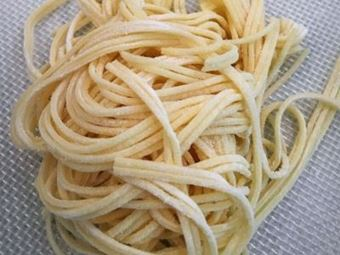plain spaghetti: (42, 1, 274, 254)
